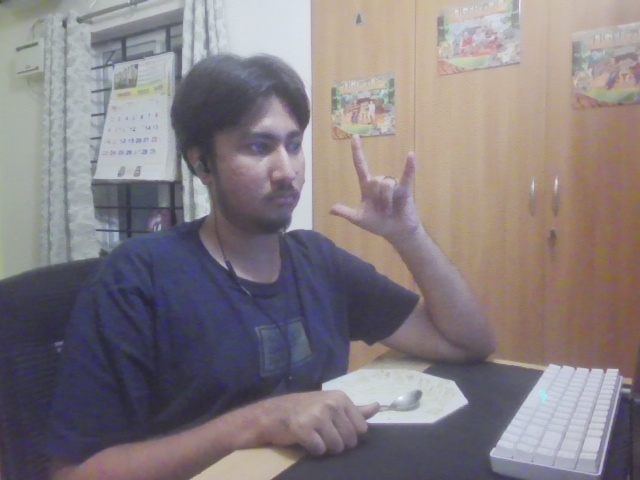iloveyou: (326, 130, 427, 247)
